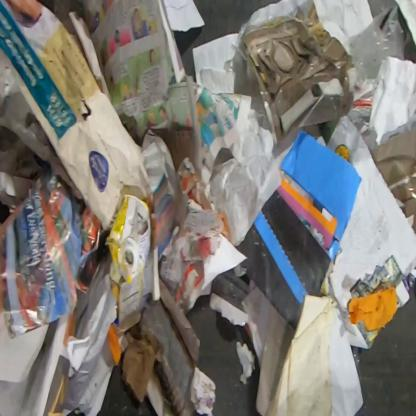cardboard: (0, 0, 153, 232), (104, 194, 153, 332), (209, 263, 252, 328), (347, 281, 399, 333)
rigid_plastic: (280, 127, 362, 265)
soft_plastic: (348, 5, 405, 86)
